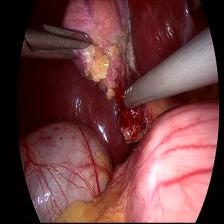Grasper: (27, 21, 94, 70)
Irrigator: (122, 76, 150, 113)
